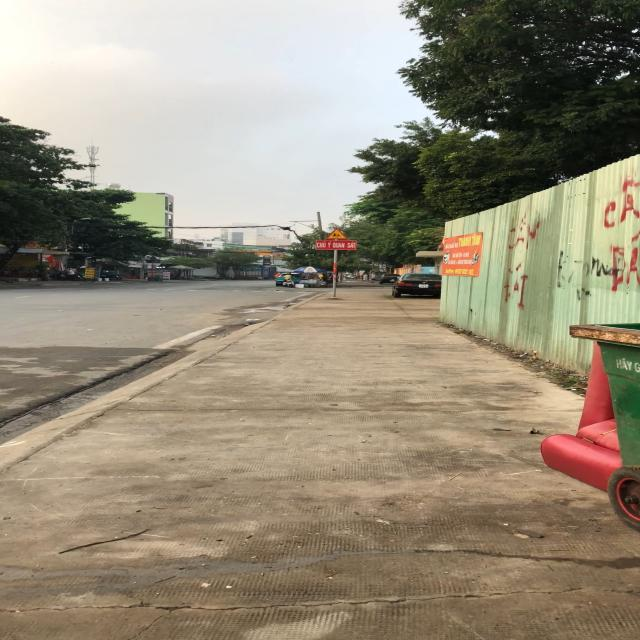Bien bao tre em: (325, 227, 349, 240)
